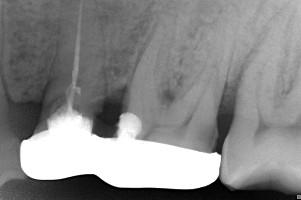Endo-Periodontal Lesion: (161, 88, 176, 105)
